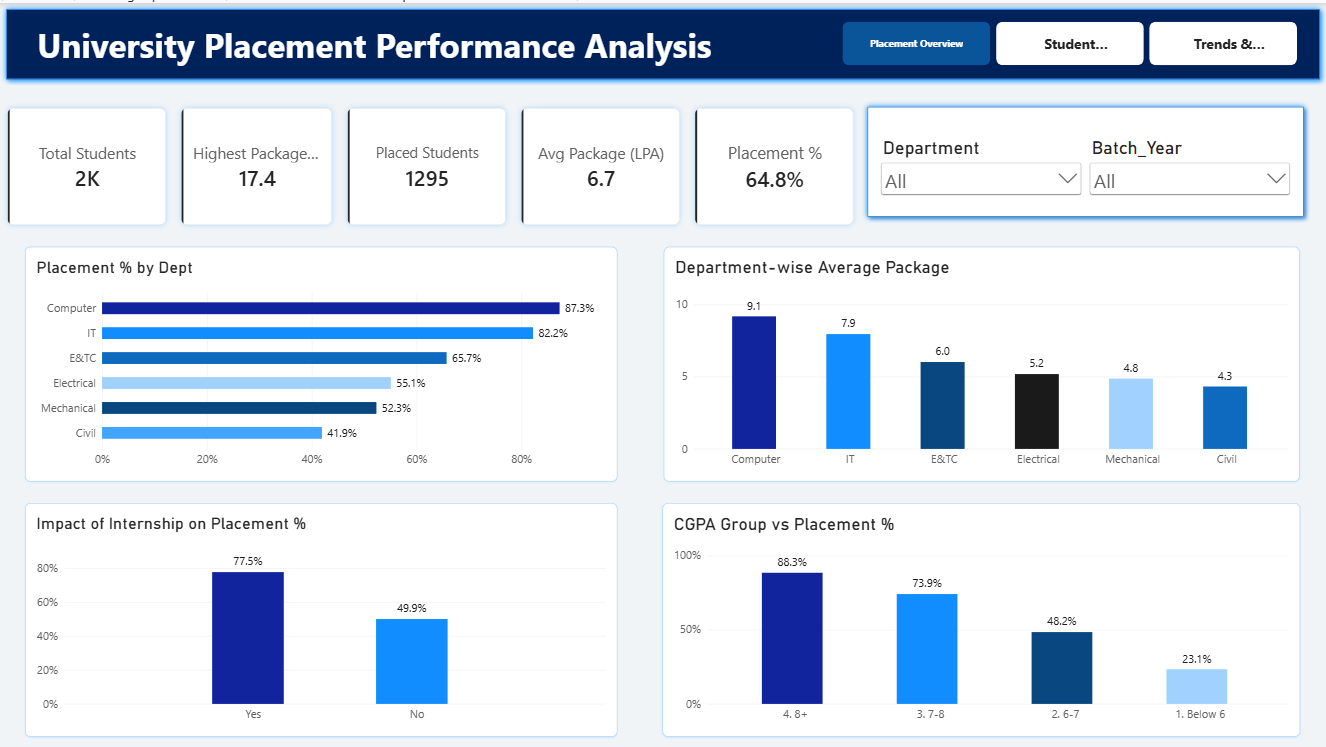

The dashboard page shown, as its layout file describes it:
{"tool":"powerbi","page":{"name":"Placement Overview","canvas":[1920,1080],"ordinal":0},"visuals":[{"type":"shape","box":[0,0,1920.1,119.4],"z":0},{"type":"cardVisual","fields":{"Data":["Avg(university_placement_data (1).Package_LPA)1"]},"box":[743.8,141.2,251.5,191.8],"z":1000},{"type":"clusteredBarChart","title":"Placement % by Dept","fields":{"Category":["university_placement_data (1).Department"],"Y":["Avg(university_placement_data (1).Placed_Flag)"]},"box":[36.2,352.9,857.8,340.2],"z":2000},{"type":"clusteredColumnChart","title":"Department-wise Average Package","fields":{"Category":["university_placement_data (1).Department"],"Y":["Avg(university_placement_data (1).Package_LPA)"]},"box":[960.9,352.9,921.1,340.2],"z":3000},{"type":"cardVisual","fields":{"Data":["Count(university_placement_data (1).Student_ID)"]},"box":[0,141.2,251.5,191.8],"z":4000},{"type":"cardVisual","fields":{"Data":["Sum(university_placement_data (1).Placed_Flag)"]},"box":[492.2,141.2,251.5,191.8],"z":5000},{"type":"cardVisual","fields":{"Data":["Avg(university_placement_data (1).Placed_Flag)"]},"box":[995.3,141.2,251.5,191.8],"z":6000},{"type":"clusteredColumnChart","title":"Impact of Internship on Placement %","fields":{"Category":["university_placement_data (1).Internship"],"Y":["Avg(university_placement_data (1).Placed_Flag)"]},"box":[36.2,723.9,857.8,338.4],"z":7000},{"type":"clusteredColumnChart","title":"CGPA Group vs Placement %","fields":{"Category":["university_placement_data (1).CGPA_Group"],"Y":["Avg(university_placement_data (1).Placed_Flag)"]},"box":[959.1,723.9,922.9,338.4],"z":8000},{"type":"cardVisual","fields":{"Data":["Max(university_placement_data (1).Package_LPA)"]},"box":[251.5,141.2,240.7,191.8],"z":9000},{"type":"pageNavigator","box":[1219.7,27.1,660.5,63.3],"z":10000},{"type":"shape","box":[1246.9,141.2,649.7,177.3],"z":12001},{"type":"slicer","fields":{"Values":["university_placement_data (1).Batch_Year"]},"box":[1572.6,193.6,300.4,86.9],"z":12002},{"type":"slicer","fields":{"Values":["university_placement_data (1).Department"]},"box":[1270.4,193.6,300.4,86.9],"z":12003}]}

Visuals, with their boxes in screenshot pixels (x1, y1, x2, y2), scaled from the page's 1920x1080 canvas onto the 1326x747 screenshot:
shape: locate(0, 0, 1325, 83)
cardVisual - Avg(university_placement_data (1).Package_LPA)1: locate(514, 98, 687, 230)
"Placement % by Dept" clusteredBarChart: locate(25, 244, 617, 479)
"Department-wise Average Package" clusteredColumnChart: locate(664, 244, 1300, 479)
cardVisual - Count(university_placement_data (1).Student_ID): locate(0, 98, 174, 230)
cardVisual - Sum(university_placement_data (1).Placed_Flag): locate(340, 98, 514, 230)
cardVisual - Avg(university_placement_data (1).Placed_Flag): locate(687, 98, 861, 230)
"Impact of Internship on Placement %" clusteredColumnChart: locate(25, 501, 617, 735)
"CGPA Group vs Placement %" clusteredColumnChart: locate(662, 501, 1300, 735)
cardVisual - Max(university_placement_data (1).Package_LPA): locate(174, 98, 340, 230)
pageNavigator: locate(842, 19, 1299, 63)
shape: locate(861, 98, 1310, 220)
slicer - university_placement_data (1).Batch_Year: locate(1086, 134, 1294, 194)
slicer - university_placement_data (1).Department: locate(877, 134, 1085, 194)
